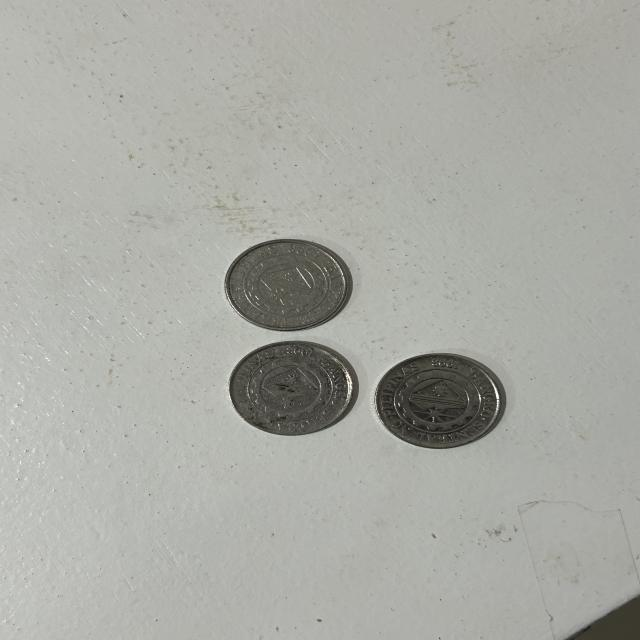1_Old_Back: (245, 352, 339, 423), (388, 368, 482, 438), (245, 253, 332, 317)
